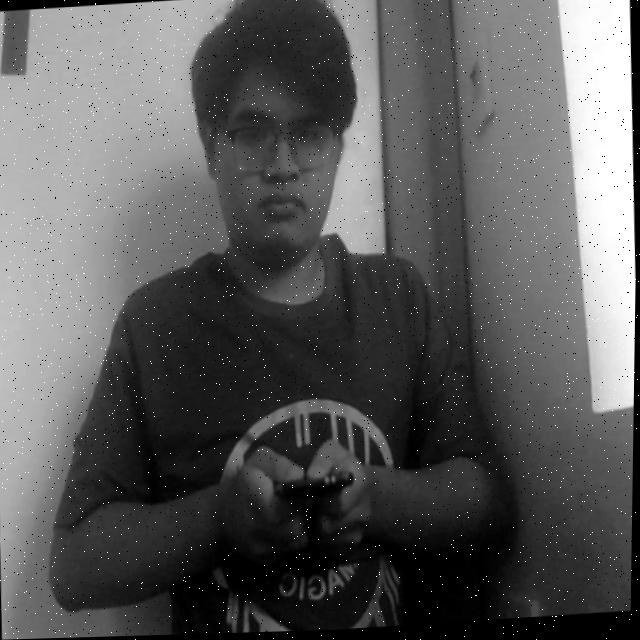phone: (260, 441, 363, 535)
